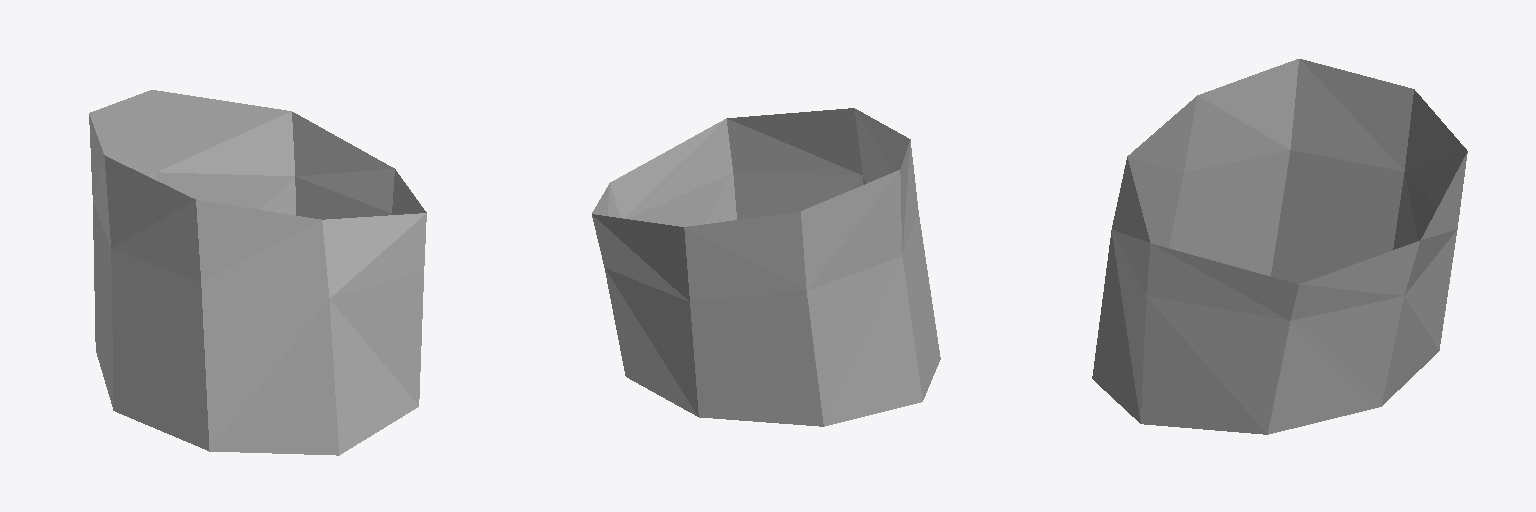
The model's file is up_lags_L.obj.
3 renders of one model, left to right at view 1: azimuth 30°, elevation 25°; view 2: azimuth 150°, elevation 25°; view 3: azimuth 270°, elevation 25°, orthographic.
Parts seen in each view (by area): view 1: Meowth.001; view 2: Meowth.001; view 3: Meowth.001.
Boxes of the visible parts, x1,y1,x2,y2 form: Meowth.001: [89, 90, 426, 455]; Meowth.001: [592, 108, 940, 426]; Meowth.001: [1092, 59, 1467, 434].
Size of the model in its own units: 2.91 by 2.4 by 3.19.